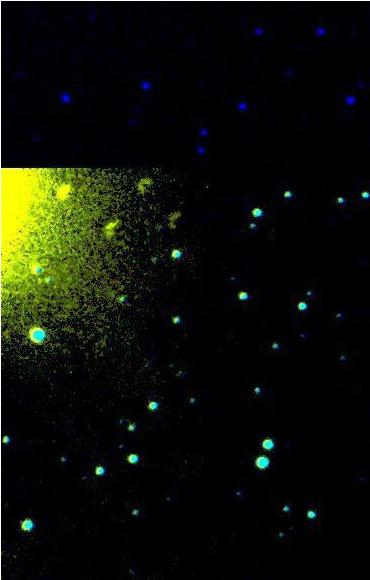star: (48, 173, 78, 203)
